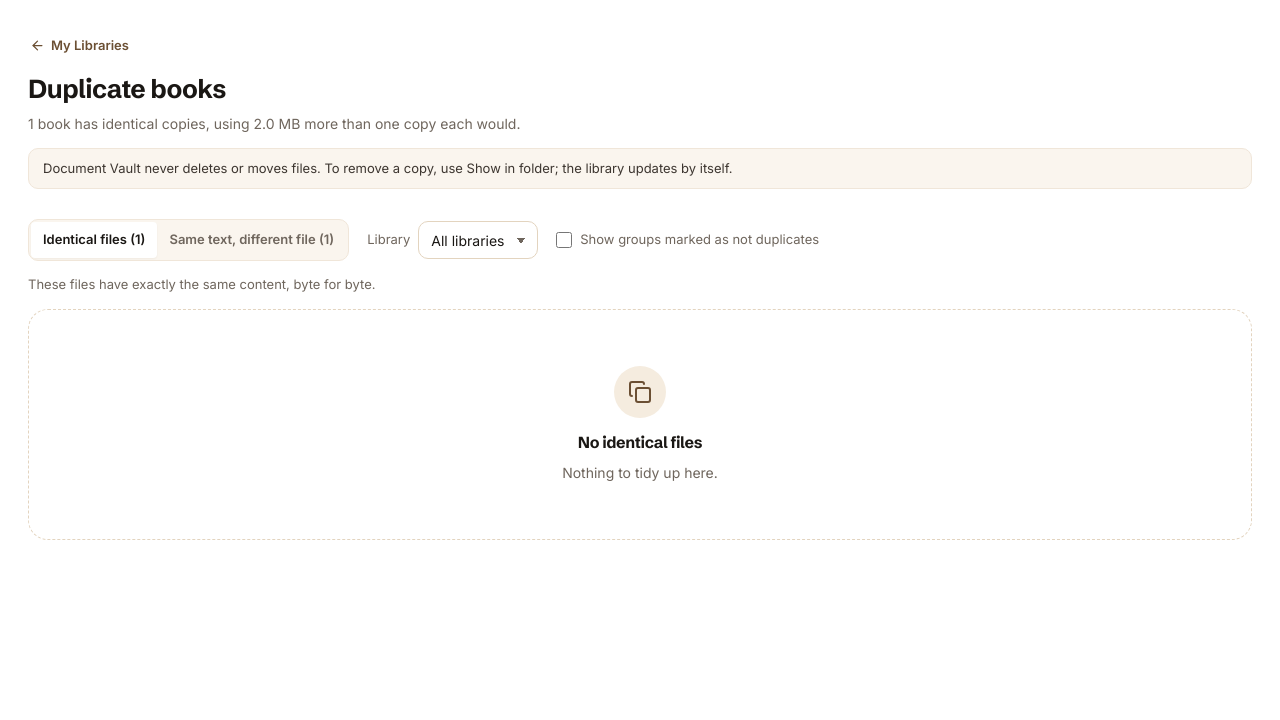
Scenario: Duplicates › switches to files with the same text, with a warning to compare them
Click the tab "Same text, different file (1)": click(252, 240) left=157, top=222, right=346, bottom=258
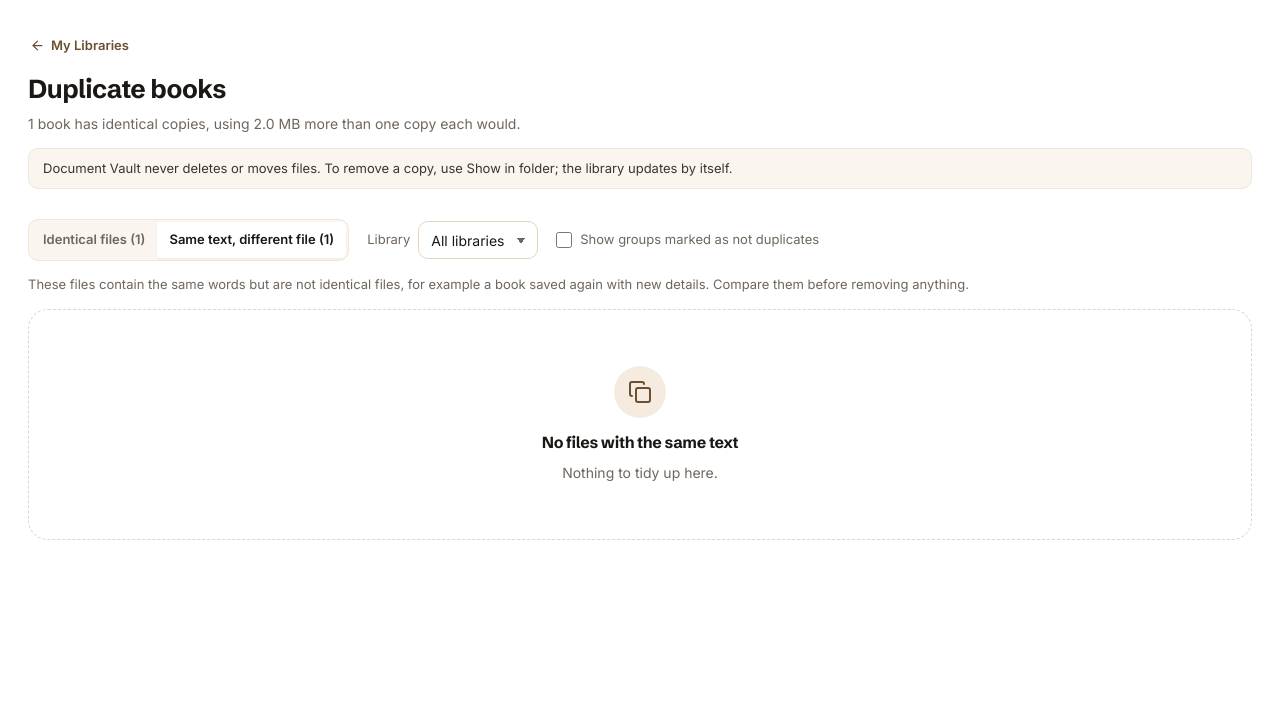
Expected: the text "Compare them before removing anything." is shown, left=28, top=276, right=969, bottom=292
